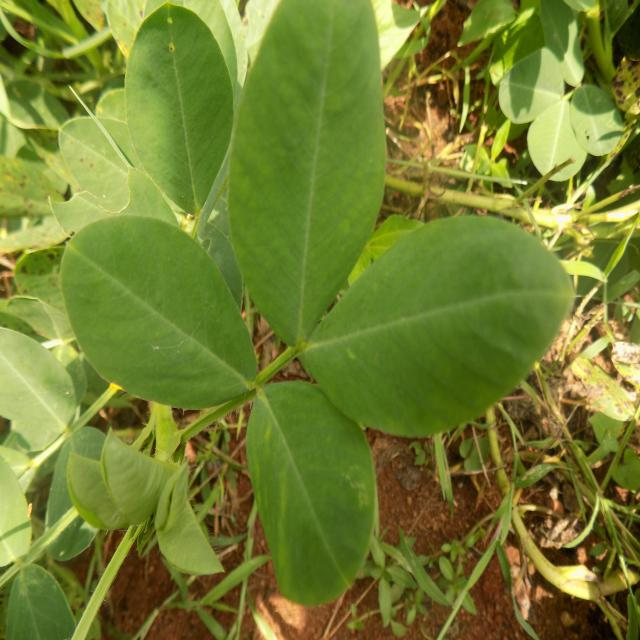Ground nut_healthy: (228, 0, 390, 347), (318, 217, 573, 434), (60, 215, 260, 408), (119, 0, 236, 223)
